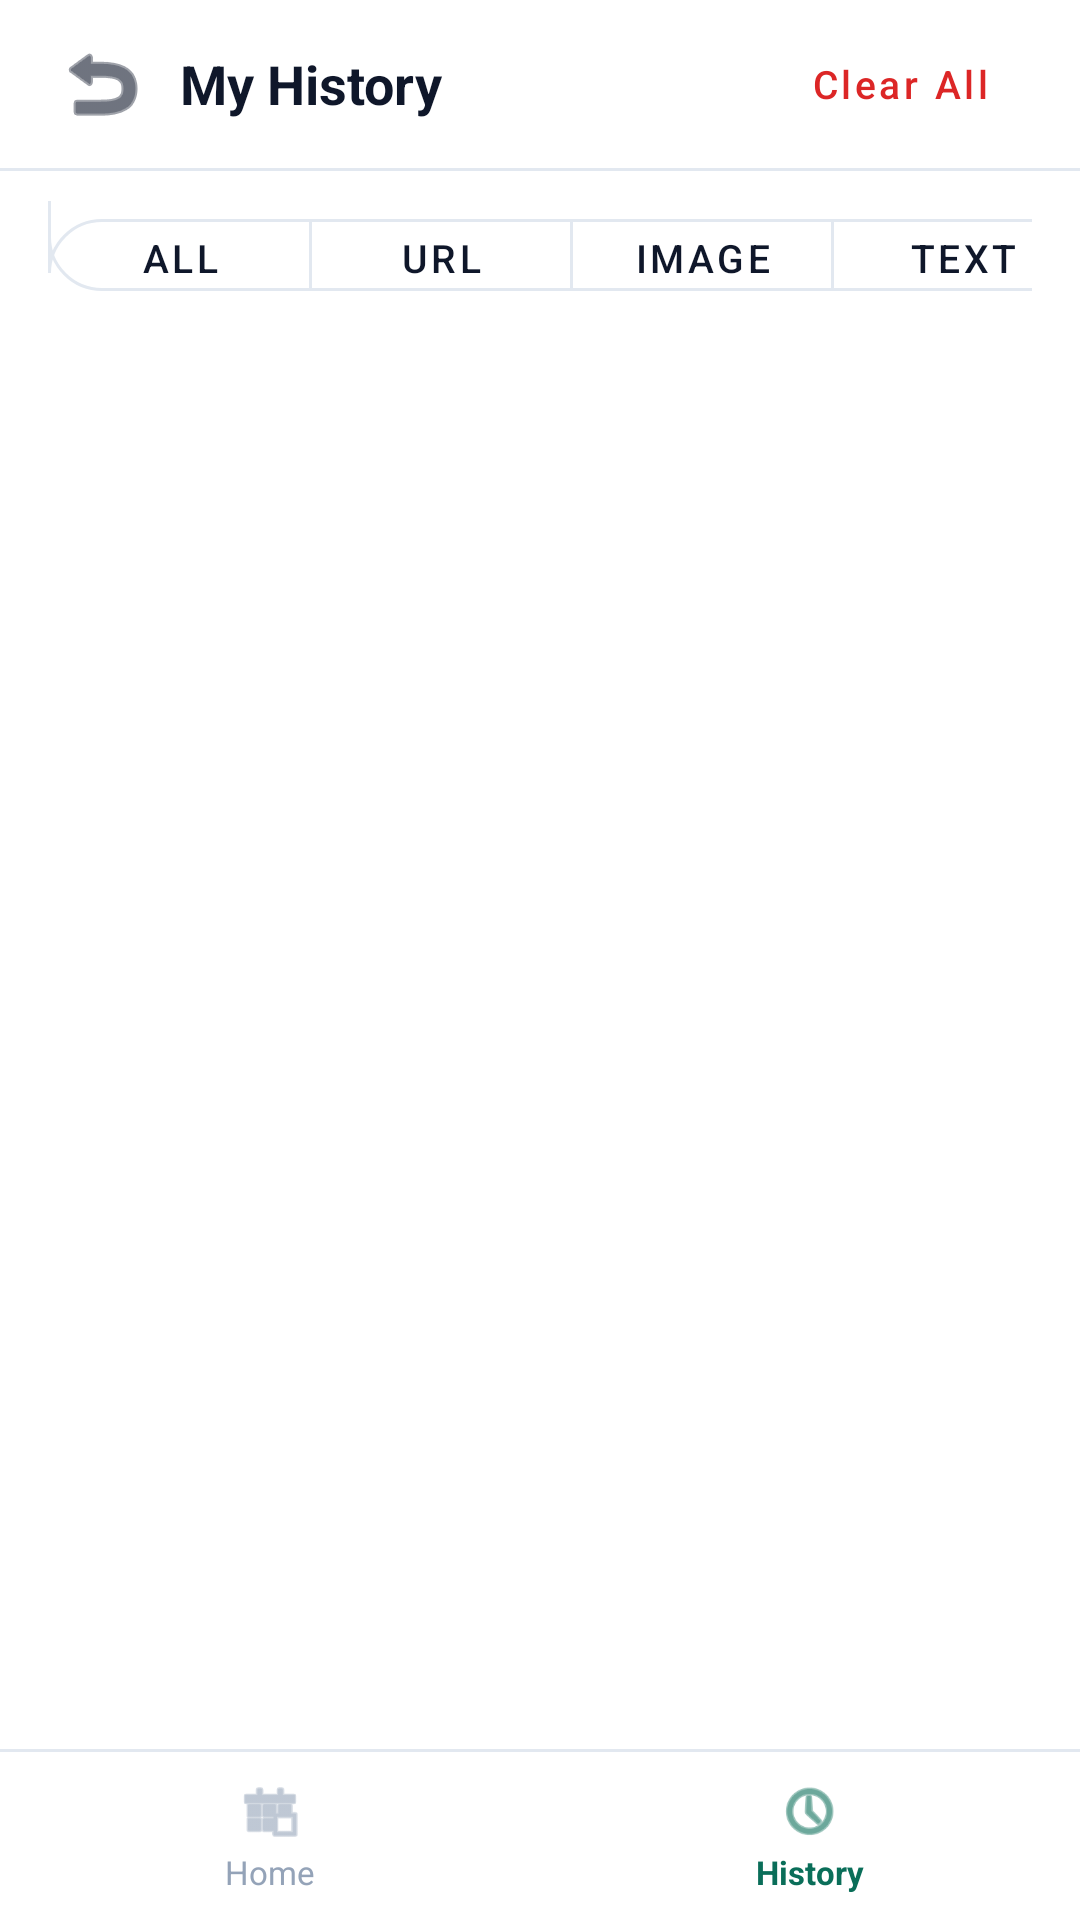

Screen size 1080w x 1920h. Icon name, then its box in pixels as (x1=x1, y1=y1, x2=x2, y2=y2):
Back: (x1=69, y1=53, x2=138, y2=116)
today: (x1=244, y1=1787, x2=298, y2=1837)
